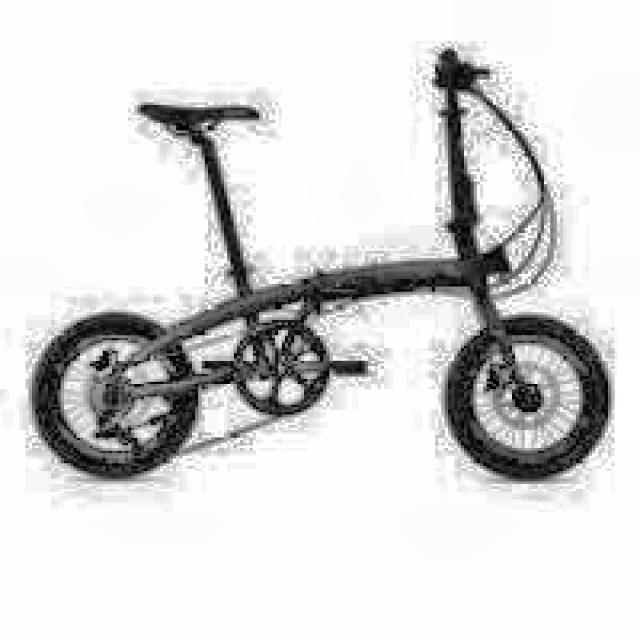motorcycle: (31, 50, 618, 490)
